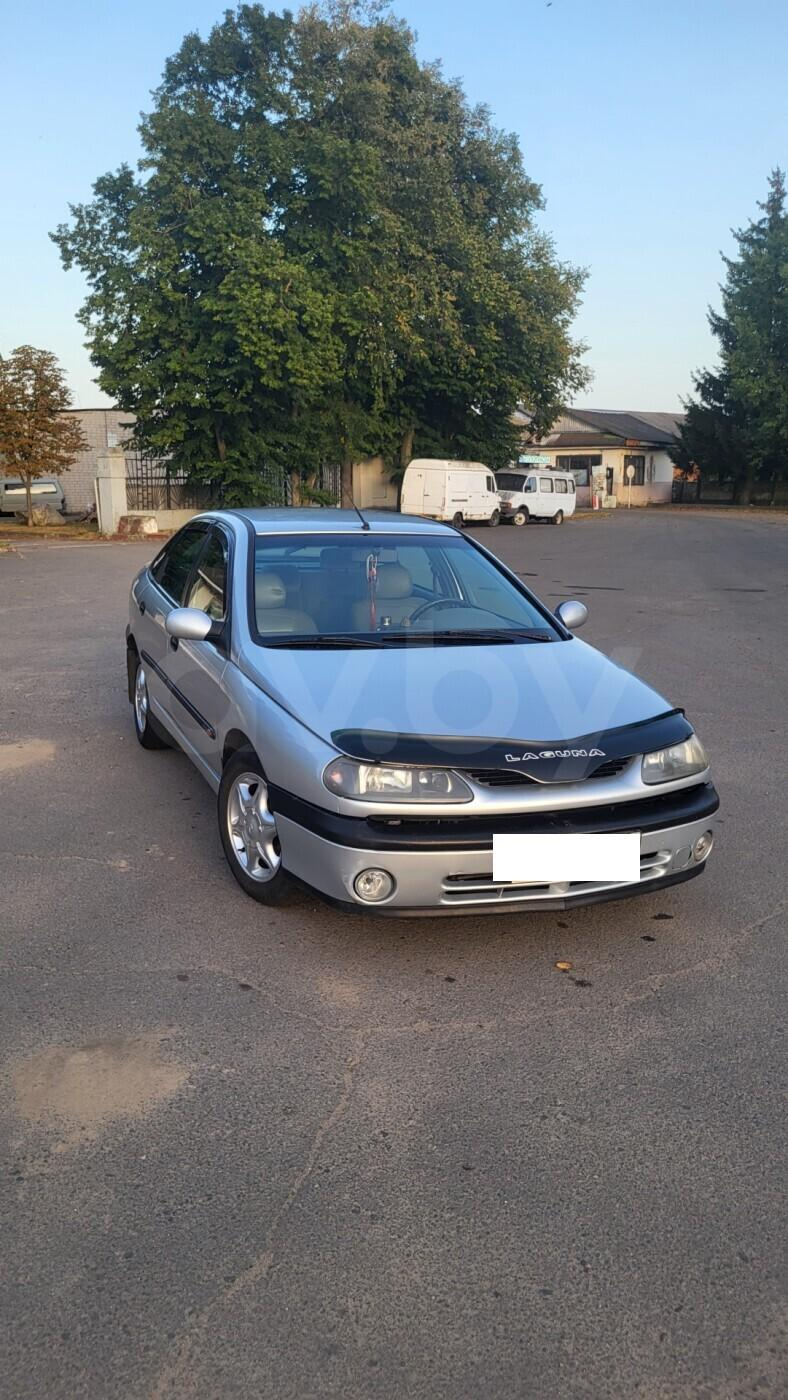Laguna_1998-2001: (132, 506, 724, 938)
